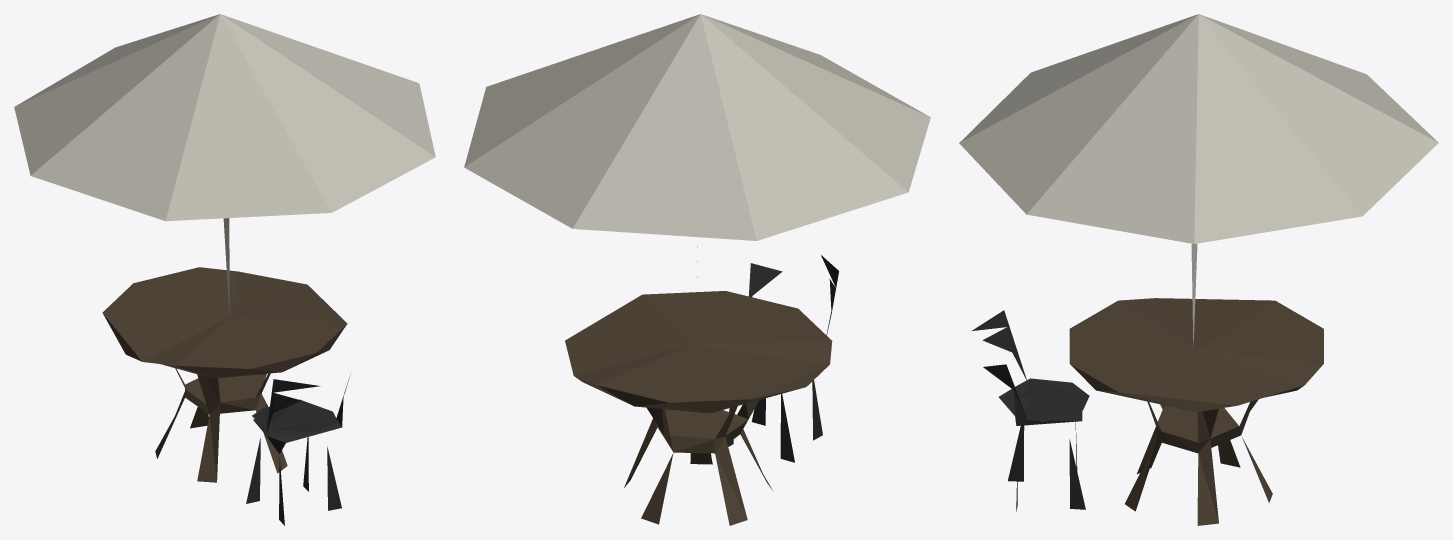
The model's file is bay-beach-table.lod1.glb.
The picture shows the model from 3 angles, left to right: view 1: azimuth 30°, elevation 25°; view 2: azimuth 150°, elevation 25°; view 3: azimuth 270°, elevation 25°; orthographic projection. The views are drawn at different scales.
Parts seen in each view (by area): view 1: pCone2_lambert1_0; view 2: pCone2_lambert1_0; view 3: pCone2_lambert1_0.
Boxes of the visible parts, box(x1,y1,x2,y2) form: pCone2_lambert1_0: box(14, 14, 435, 525); pCone2_lambert1_0: box(464, 14, 930, 525); pCone2_lambert1_0: box(959, 14, 1438, 525).
Bounding box in the file's own units: 2.14 × 2.34 × 2.12.
